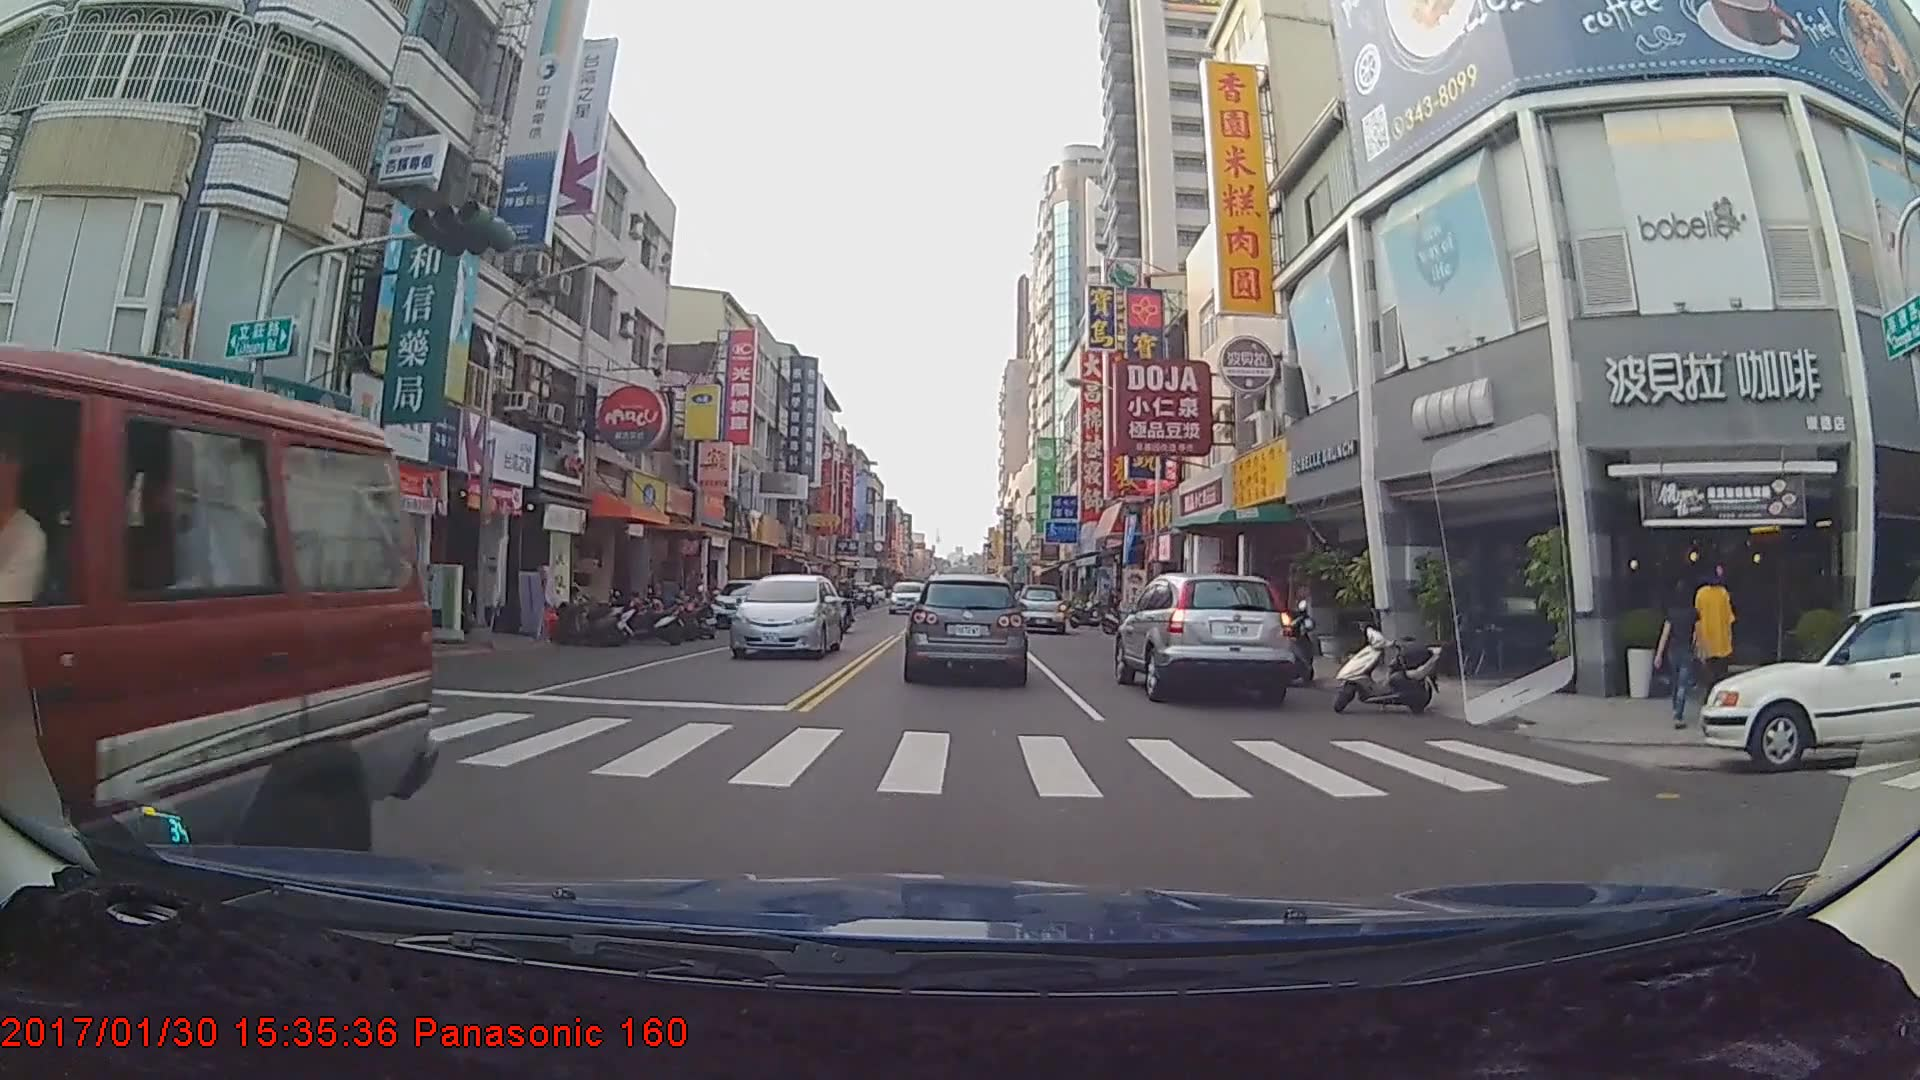pedestrian: (1655, 579, 1708, 731), (1691, 567, 1739, 702), (351, 541, 401, 671)
vehicle: (0, 348, 427, 1024), (1698, 596, 1920, 771), (1113, 569, 1295, 708), (905, 571, 1025, 683), (729, 571, 847, 661), (709, 577, 770, 627), (1013, 583, 1066, 633), (887, 581, 926, 616)
